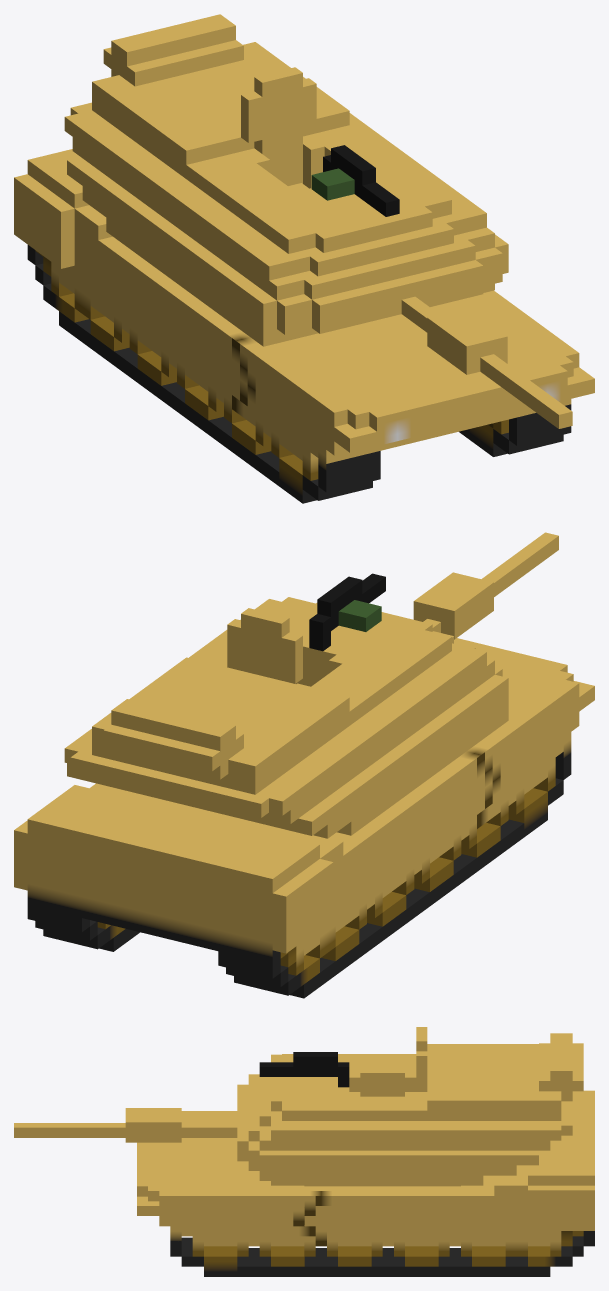
Rendered from Tank.dae.
The picture shows the model from 3 angles, top to bottom: view 1: azimuth 30°, elevation 25°; view 2: azimuth 150°, elevation 25°; view 3: azimuth 270°, elevation 25°; orthographic projection. The views are drawn at different scales.
Visible parts, largest first — view 1: Tank; view 2: Tank; view 3: Tank.
Part boxes in pixels (bbox=[...]): Tank: bbox=[14, 14, 594, 503]; Tank: bbox=[14, 532, 594, 998]; Tank: bbox=[14, 1027, 594, 1276].
Size of the model in its own units: 20 by 20 by 52.
1 material, 1 textured.
